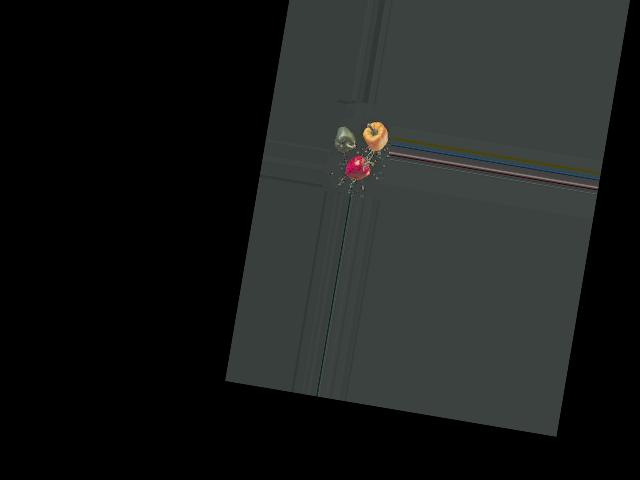bell_pepper: (339, 148, 379, 183)
